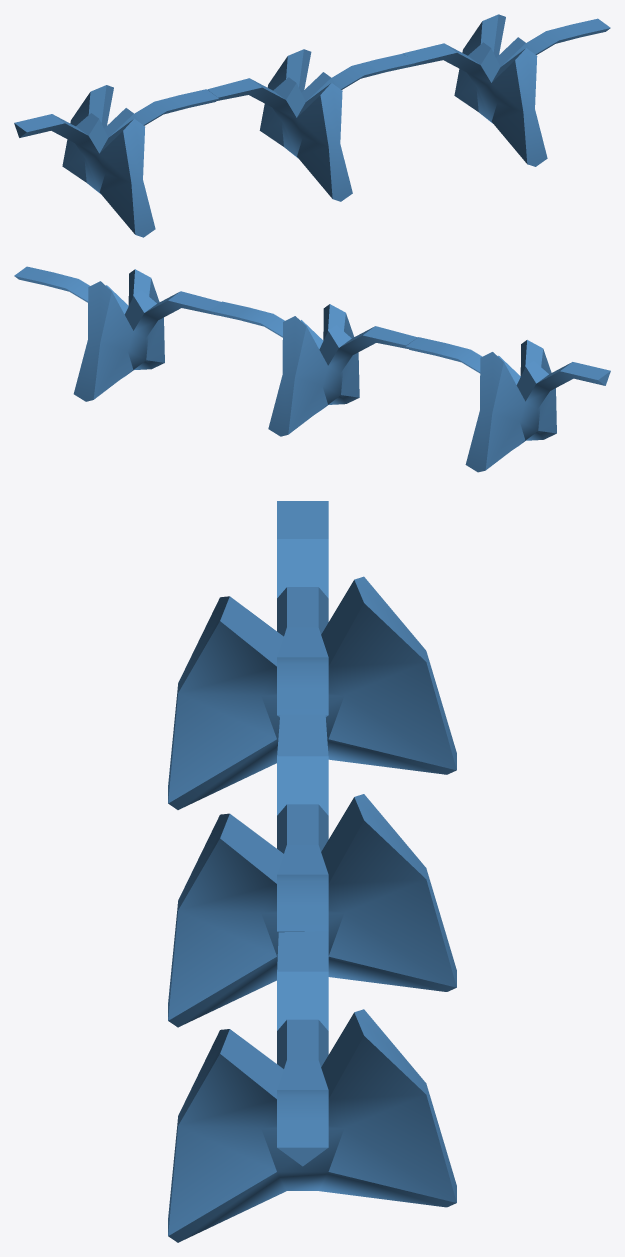
Rendered from DecoreArch.fbx.
3 views of the same model, one above another, from view 1: azimuth 30°, elevation 25°; view 2: azimuth 150°, elevation 25°; view 3: azimuth 270°, elevation 25° (orthographic). The views are drawn at different scales.
Parts seen in each view (by area): view 1: DecoreArch3; view 2: DecoreArch3; view 3: DecoreArch3.
Part boxes in pixels (x1,y1,x2,y2): DecoreArch3: (14, 14, 610, 237); DecoreArch3: (14, 266, 610, 472); DecoreArch3: (168, 501, 456, 1242).
Size of the model in its own units: 152 by 35.6 by 32.39.
